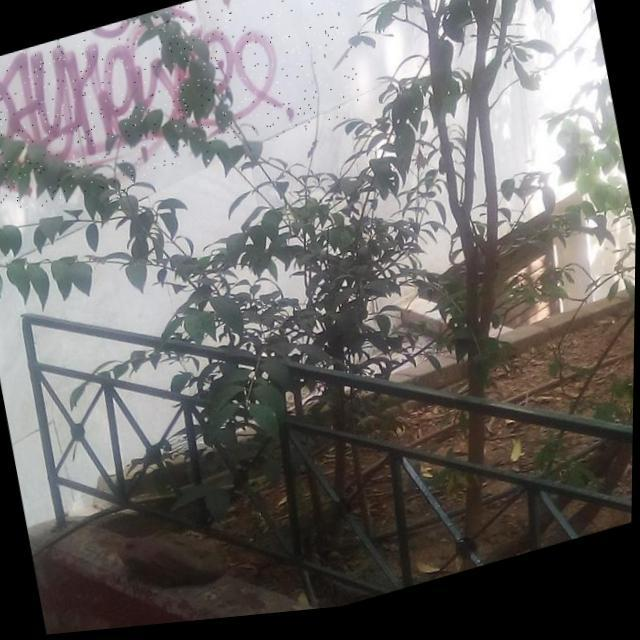-: (0, 0, 366, 224)
